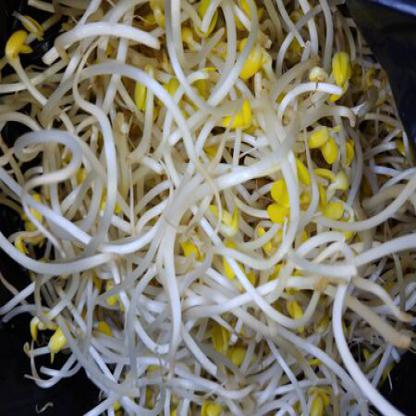bean sprouts: (68, 2, 415, 415)
